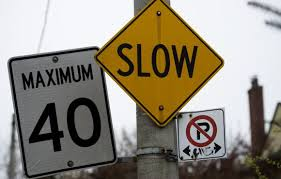sp40: (24, 97, 109, 158)
